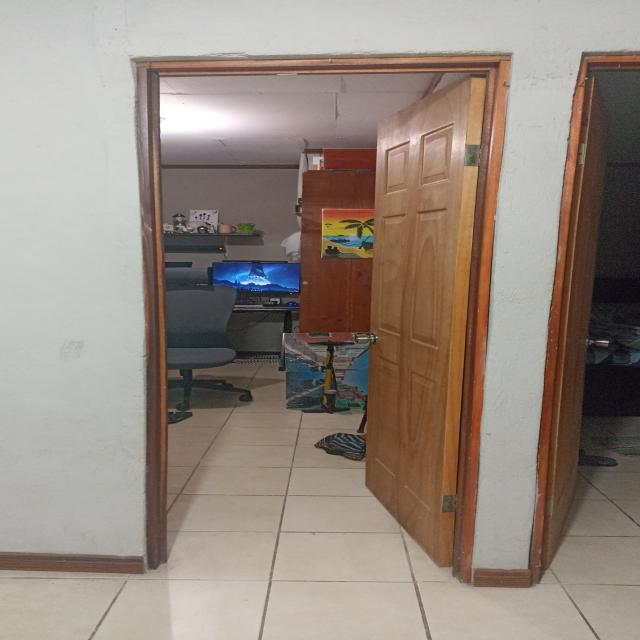OpenDoor: (134, 55, 494, 577)
